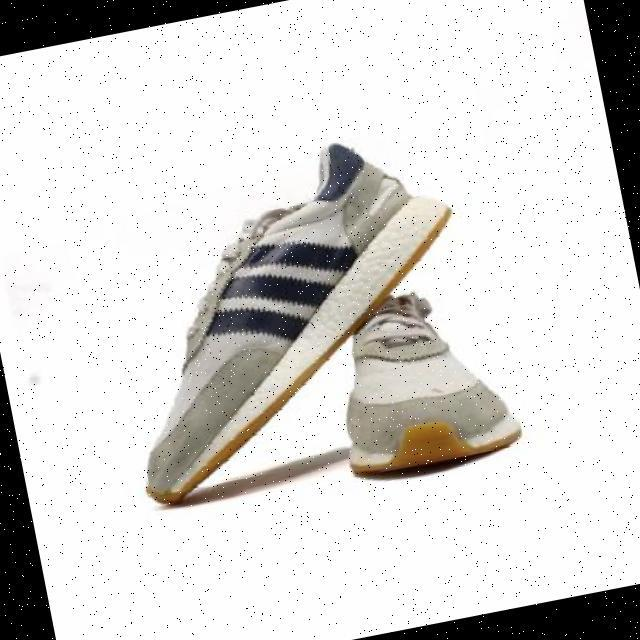Adidas: (188, 218, 381, 365)
